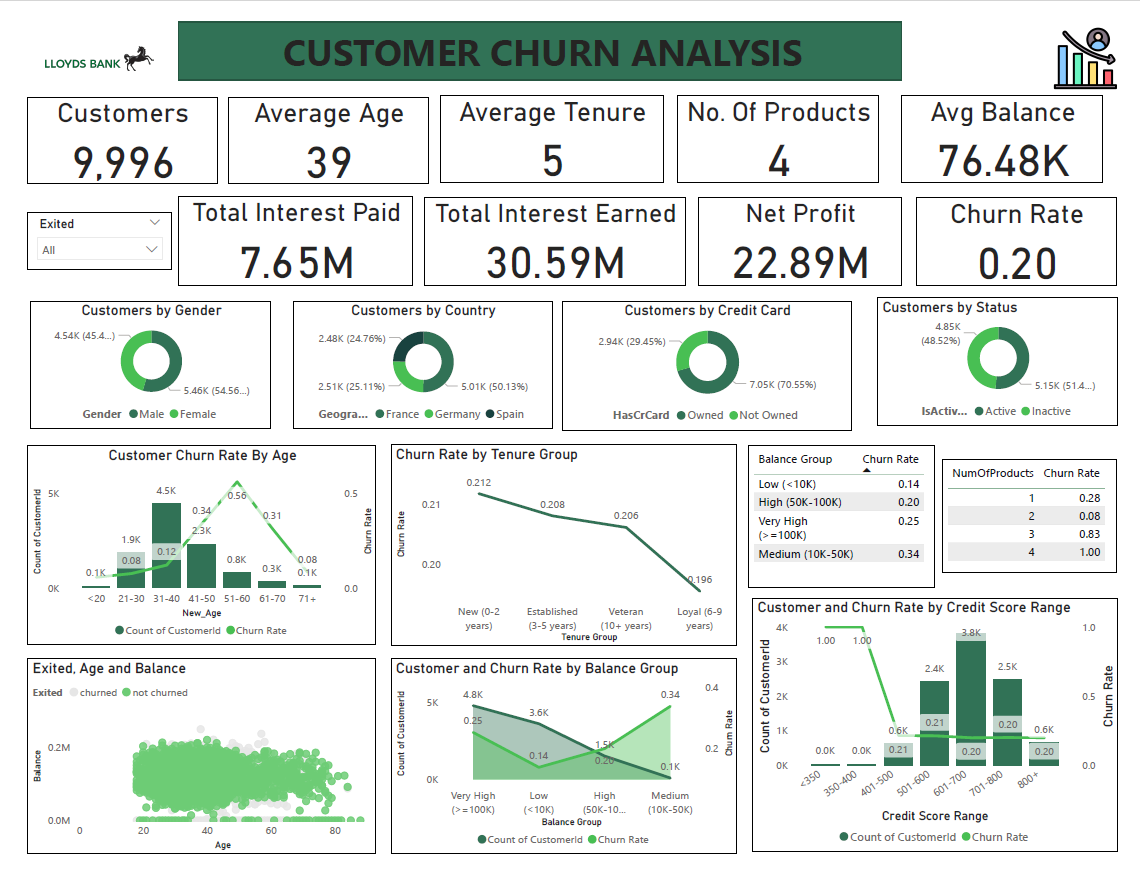

Layout of this report page (visuals, bound fields, positions):
{"tool":"powerbi","page":{"name":"Page 1","canvas":[1280,980],"ordinal":0},"visuals":[{"type":"card","title":"Average Age","fields":{"Values":["Avg(Churn_Modelling.Age)"]},"box":[240.5,86.5,233.2,102.4],"z":0},{"type":"card","title":"Average Tenure","fields":{"Values":["Avg(Churn_Modelling.Tenure)"]},"box":[487.1,84.7,259.8,102.4],"z":1000},{"type":"card","title":"No. Of Products","fields":{"Values":["Count(Churn_Modelling.NumOfProducts)"]},"box":[762,84.7,235.1,102.4],"z":2000},{"type":"card","title":"Avg Balance","fields":{"Values":["Avg(Churn_Modelling.Balance)"]},"box":[1023.3,85,233.3,101.7],"z":3000},{"type":"lineStackedColumnComboChart","title":"Customer Churn Rate By Age","fields":{"Category":["Churn_Modelling.New_Age"],"Y":["CountNonNull(Churn_Modelling.CustomerId)"],"Y2":["Churn_Modelling.Churn Rate"]},"box":[8,492.2,404.9,232],"z":4000},{"type":"donutChart","title":"Customers by Gender","fields":{"Category":["Churn_Modelling.Gender"],"Y":["CountNonNull(Churn_Modelling.CustomerId)"]},"box":[11,324.1,279.7,149.3],"z":5000},{"type":"donutChart","title":"Customers by Country","fields":{"Category":["Churn_Modelling.Geography"],"Y":["CountNonNull(Churn_Modelling.CustomerId)"]},"box":[316.4,323.6,301.5,149.8],"z":6000},{"type":"donutChart","title":"Customers by Credit Card","fields":{"Category":["Churn_Modelling.HasCrCard"],"Y":["CountNonNull(Churn_Modelling.CustomerId)"]},"box":[629.3,323.6,335.6,151.7],"z":7000},{"type":"donutChart","title":"Customers by Status","fields":{"Y":["CountNonNull(Churn_Modelling.CustomerId)"],"Category":["Churn_Modelling.IsActiveMember"]},"box":[994.9,320.3,278.8,149.8],"z":8000},{"type":"tableEx","fields":{"Values":["Churn_Modelling.Balance Group ","Churn_Modelling.Churn Rate"]},"box":[845,491.7,216.7,166.7],"z":9000},{"type":"lineChart","fields":{"Category":["Churn_Modelling.Tenure Group "],"Y":["Churn_Modelling.Churn Rate"]},"box":[429.7,491.3,402.2,233.2],"z":10000},{"type":"card","title":"Total Interest Paid ","fields":{"Values":["Churn_Modelling.Total Interest Paid"]},"box":[183.4,203.1,272.5,103.5],"z":11000},{"type":"card","title":"Total Interest Earned ","fields":{"Values":["Churn_Modelling.Total Interest Earned"]},"box":[467.7,204.4,305.3,102.2],"z":12000},{"type":"card","title":"Net Profit","fields":{"Values":["Churn_Modelling.Net Profit"]},"box":[787.4,204.4,235.8,102.2],"z":13000},{"type":"lineStackedColumnComboChart","title":"Customer and Churn Rate by Credit Score Range","fields":{"Y":["CountNonNull(Churn_Modelling.CustomerId)"],"Y2":["Churn_Modelling.Churn Rate"],"Category":["Churn_Modelling.Credit Score Range"]},"box":[849.7,669.4,424.6,294.2],"z":14000},{"type":"areaChart","title":"Customer and Churn Rate by Balance Group ","fields":{"Category":["Churn_Modelling.Balance Group "],"Y":["CountNonNull(Churn_Modelling.CustomerId)"],"Y2":["Churn_Modelling.Churn Rate"]},"box":[429.7,738.9,402.2,228],"z":15000},{"type":"card","title":"Customers","fields":{"Values":["Count(Churn_Modelling.CustomerId)"]},"box":[7.3,86.5,221.9,102.4],"z":16000},{"type":"scatterChart","fields":{"X":["Churn_Modelling.Age"],"Y":["Churn_Modelling.Balance"],"Series":["Churn_Modelling.Exited"]},"box":[8.3,739,405,227],"z":17000},{"type":"shape","box":[183.3,0,840,68.3],"z":18000},{"type":"textbox","box":[300,0,678.3,68.3],"z":19000},{"type":"image","box":[0,0,183.3,85],"z":20000},{"type":"image","box":[1191.7,0,88.3,85],"z":21000},{"type":"card","title":"Churn Rate","fields":{"Values":["Churn_Modelling.Churn Rate"]},"box":[1040.3,204.4,233.2,102.2],"z":22000},{"type":"tableEx","fields":{"Values":["Churn_Modelling.NumOfProducts","Churn_Modelling.Churn Rate"]},"box":[1070,508.3,203.3,131.7],"z":23000},{"type":"slicer","fields":{"Values":["Churn_Modelling.Exited"]},"box":[7.6,221.4,168.3,66.7],"z":23001}]}

Visuals, with their boxes in screenshot pixels (x1, y1, x2, y2), scaled from the page's 1280x980 canvas onto the 1140x880 screenshot:
"Average Age" card: left=214, top=78, right=422, bottom=170
"Average Tenure" card: left=434, top=76, right=665, bottom=168
"No. Of Products" card: left=679, top=76, right=888, bottom=168
"Avg Balance" card: left=911, top=76, right=1119, bottom=168
"Customer Churn Rate By Age" lineStackedColumnComboChart: left=7, top=442, right=368, bottom=650
"Customers by Gender" donutChart: left=10, top=291, right=259, bottom=425
"Customers by Country" donutChart: left=282, top=291, right=550, bottom=425
"Customers by Credit Card" donutChart: left=560, top=291, right=859, bottom=427
"Customers by Status" donutChart: left=886, top=288, right=1134, bottom=422
tableEx - Churn_Modelling.Balance Group  x Churn_Modelling.Churn Rate: left=753, top=442, right=946, bottom=591
lineChart - Churn_Modelling.Tenure Group  x Churn_Modelling.Churn Rate: left=383, top=441, right=741, bottom=651
"Total Interest Paid " card: left=163, top=182, right=406, bottom=275
"Total Interest Earned " card: left=417, top=184, right=688, bottom=275
"Net Profit" card: left=701, top=184, right=911, bottom=275
"Customer and Churn Rate by Credit Score Range" lineStackedColumnComboChart: left=757, top=601, right=1135, bottom=865
"Customer and Churn Rate by Balance Group " areaChart: left=383, top=664, right=741, bottom=868
"Customers" card: left=7, top=78, right=204, bottom=170
scatterChart - Churn_Modelling.Age x Churn_Modelling.Balance: left=7, top=664, right=368, bottom=867
shape: left=163, top=0, right=911, bottom=61
textbox: left=267, top=0, right=871, bottom=61
image: left=0, top=0, right=163, bottom=76
image: left=1061, top=0, right=1139, bottom=76
"Churn Rate" card: left=927, top=184, right=1134, bottom=275
tableEx - Churn_Modelling.NumOfProducts x Churn_Modelling.Churn Rate: left=953, top=456, right=1134, bottom=575
slicer - Churn_Modelling.Exited: left=7, top=199, right=157, bottom=259
